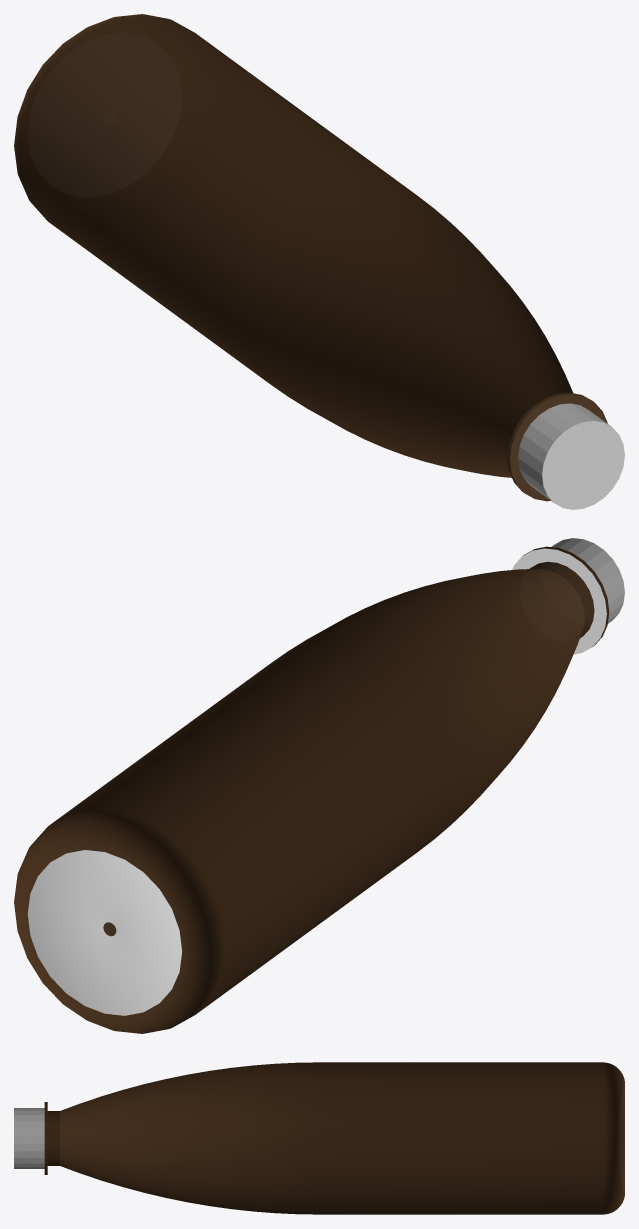
File: model_scale.obj
3 renders of one model, top to bottom at view 1: azimuth 30°, elevation 25°; view 2: azimuth 150°, elevation 25°; view 3: azimuth 270°, elevation 25°, orthographic. The views are drawn at different scales.
Parts seen in each view (by area): view 1: mesh1_mesh1-geometry; view 2: mesh1_mesh1-geometry; view 3: mesh1_mesh1-geometry.
Part boxes in pixels (bbox=[...]): mesh1_mesh1-geometry: bbox=[14, 14, 624, 509]; mesh1_mesh1-geometry: bbox=[14, 538, 624, 1033]; mesh1_mesh1-geometry: bbox=[14, 1062, 624, 1214].
Bounding box in the file's own units: 0.0692 × 0.0692 × 0.2767.
